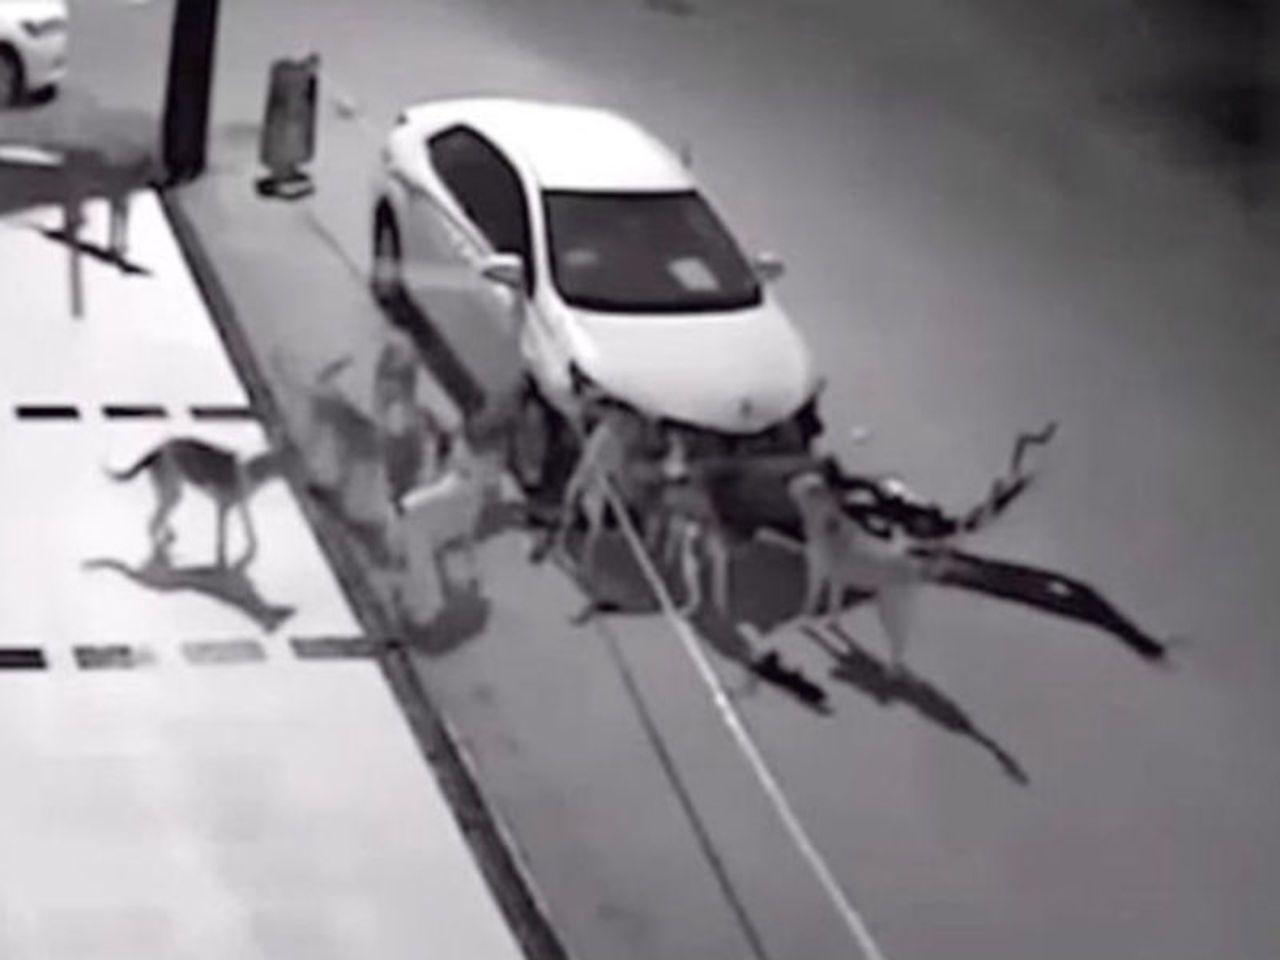dog_aggressive: (786, 466, 967, 680), (99, 421, 314, 581), (39, 130, 175, 262), (383, 457, 504, 592)
